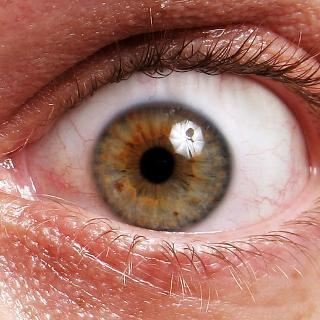pupil: (138, 146, 175, 183)
